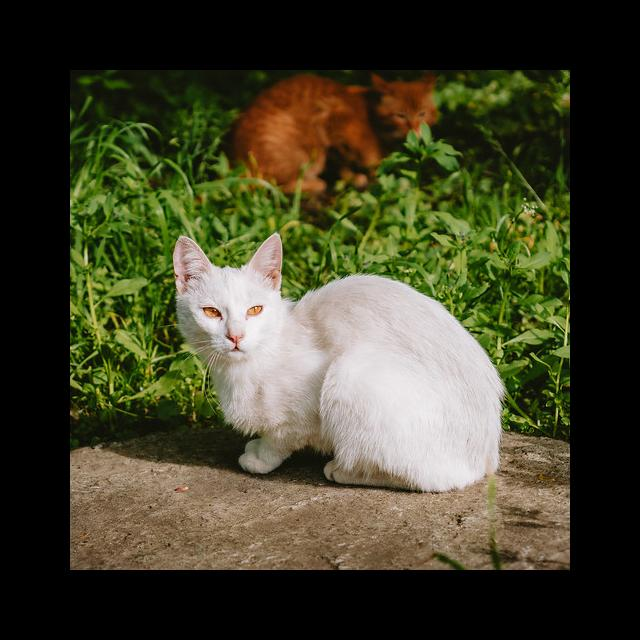animals: (172, 232, 505, 493), (223, 70, 437, 191)
